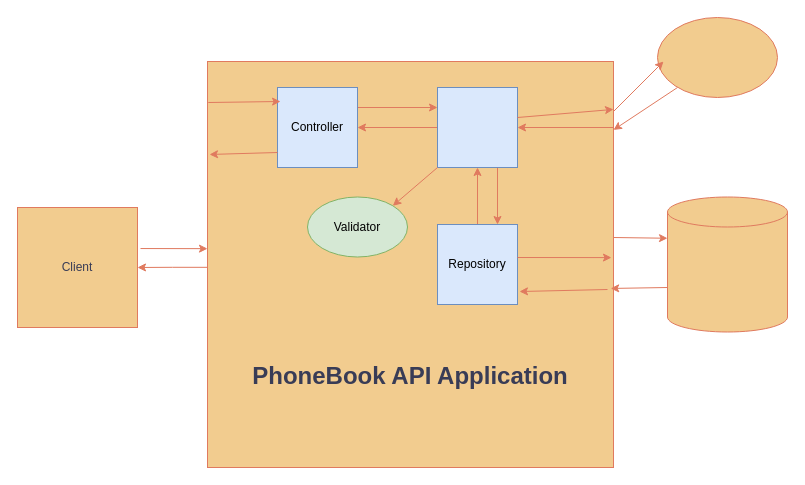
This 805x485 diagram has some shape labels left out. Each missing label, with the centre of its shape:
"MySQL - RDS on AWS" goes at point (727, 264).
"Redis Server" goes at point (717, 57).
"Service" goes at point (477, 127).
